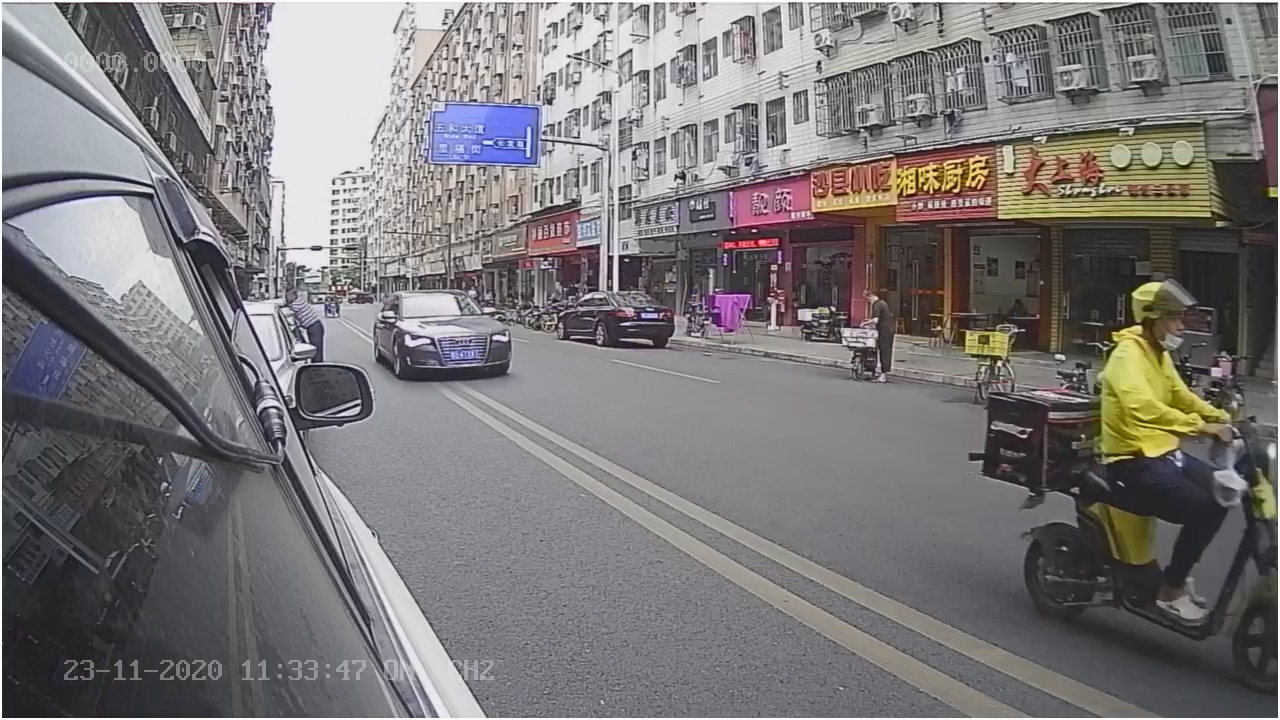person: (1092, 278, 1234, 441)
